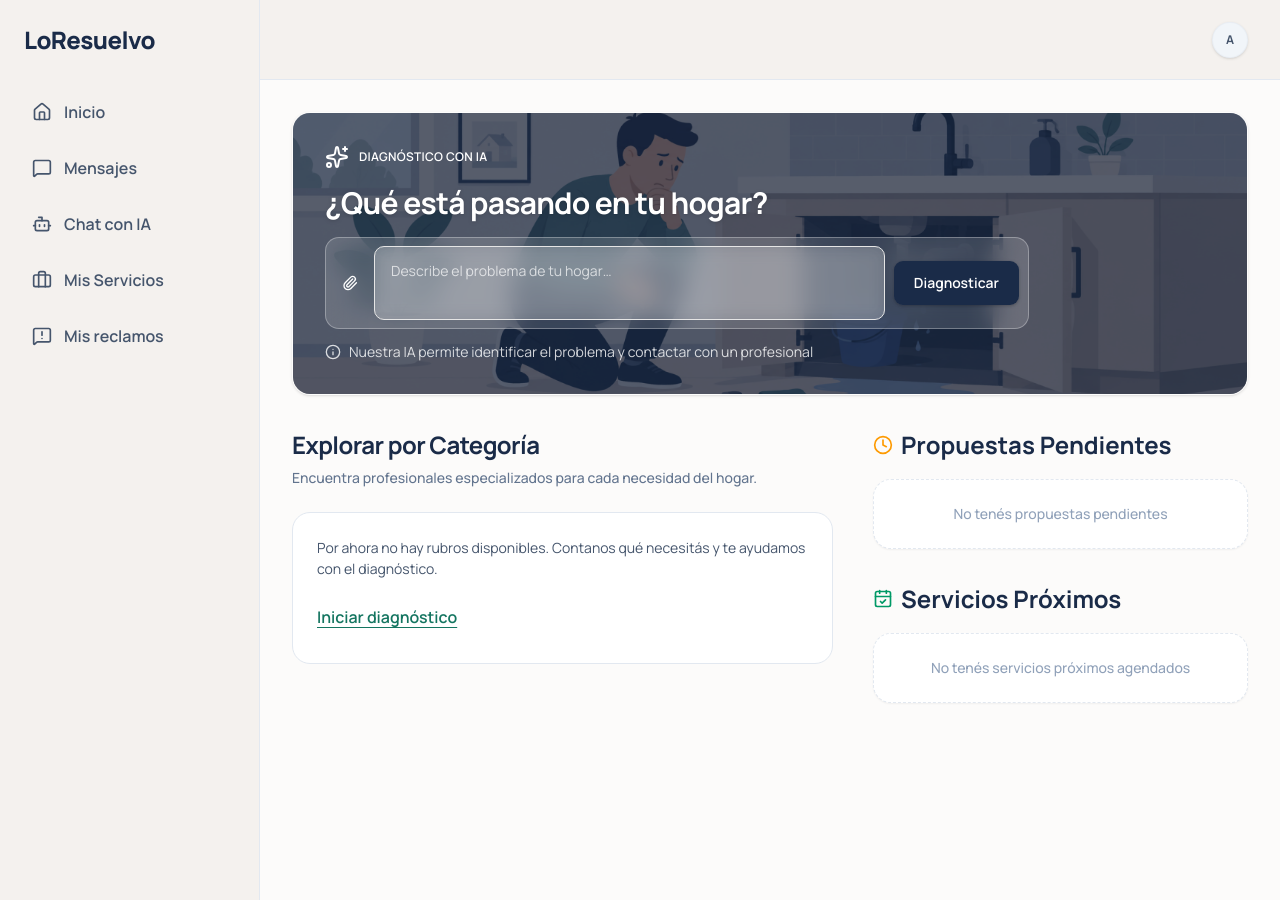
Scenario: ConsumerHome › opens the dropdown menu and displays user details and logout option on click
expect the text "Andres Colina" is not shown: met
Step 1. Click the button "A" → (1230, 40), box [1212, 22, 1248, 58]
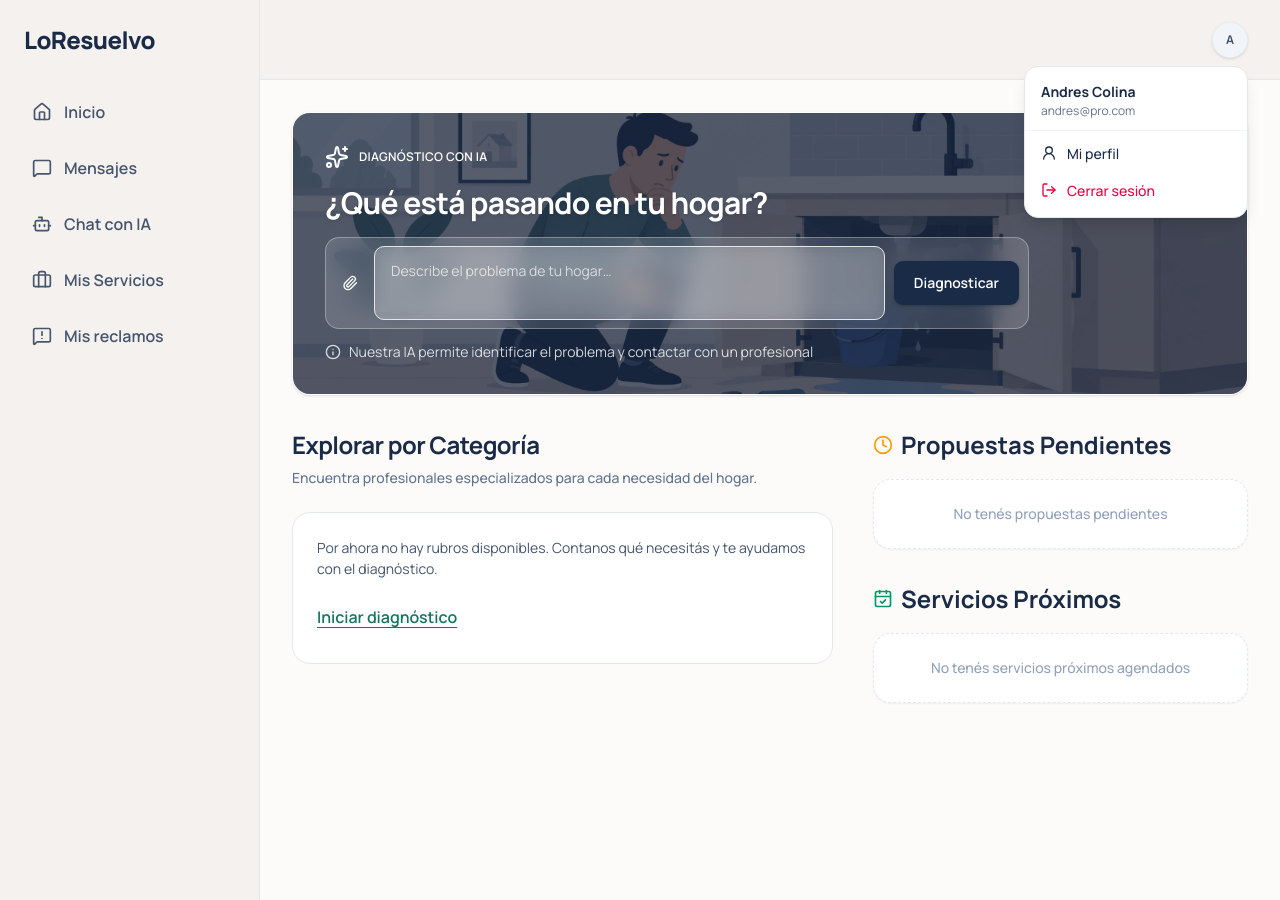
expect the text "Andres Colina" is shown: met, box [1041, 82, 1136, 100]
expect the text "andres@pro.com" is shown: met, box [1041, 102, 1135, 118]
expect the text "Cerrar sesión" is shown: met, box [1067, 180, 1155, 200]
